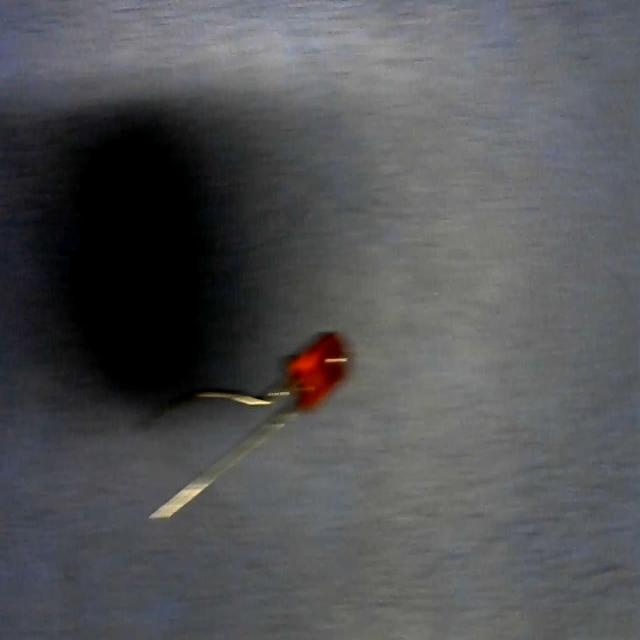LED: (142, 336, 346, 526)
